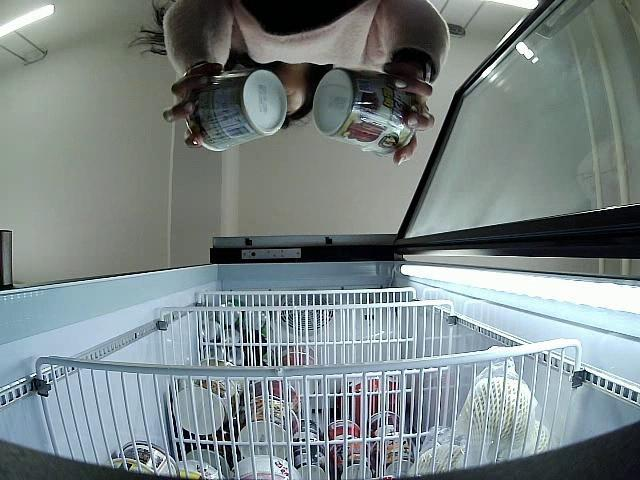04_chapagetti_S: (312, 66, 418, 156), (185, 69, 286, 152)
